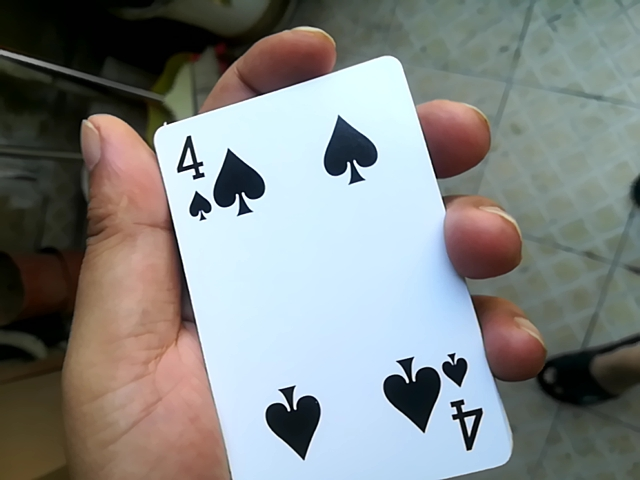ht 4: (139, 53, 485, 480)
